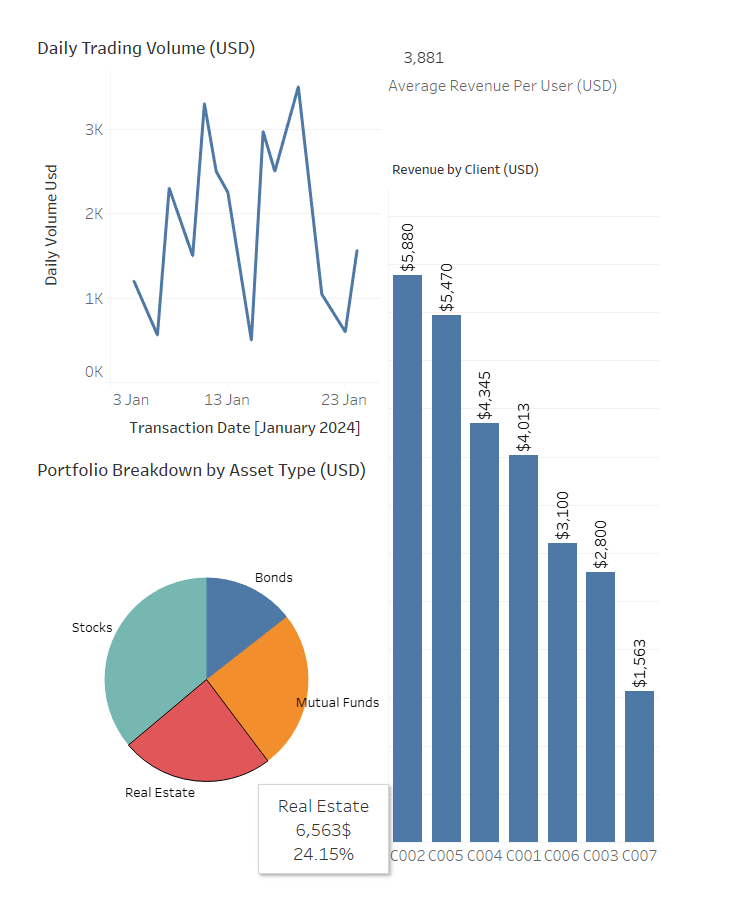

Layout of this report page (visuals, bound fields, positions):
{"tool":"tableau","page":{"name":"Financial KPI Overview","canvas":[650,860],"ordinal":2},"visuals":[{"type":"worksheet","title":"Daily Trading Volume","mark":"Automatic","rows":["daily_volume_usd"],"cols":["transaction_date"],"box":[8,8.6,355,421.4]},{"type":"worksheet","title":"ARPU","mark":"Automatic","box":[363,8.6,279,124.4]},{"type":"worksheet","title":"Revenue by Client","mark":"Automatic","rows":["total_revenue_usd"],"cols":["client_id"],"box":[363,133,279,718.5]},{"type":"worksheet","title":"Portfolio Breakdown","mark":"Pie","box":[8,430,355,421.4]}]}

Visuals, with their boxes on the page's 650x860 design canvas (x1, y1, x2, y2). These are canvas units, not pixel positions in the 734x914 screenshot, which may show the page scaled, cropped or inside an application window:
"Daily Trading Volume" worksheet: {"left": 8, "top": 9, "right": 363, "bottom": 430}
"ARPU" worksheet: {"left": 363, "top": 9, "right": 642, "bottom": 133}
"Revenue by Client" worksheet: {"left": 363, "top": 133, "right": 642, "bottom": 852}
"Portfolio Breakdown" worksheet (Pie marks): {"left": 8, "top": 430, "right": 363, "bottom": 851}
